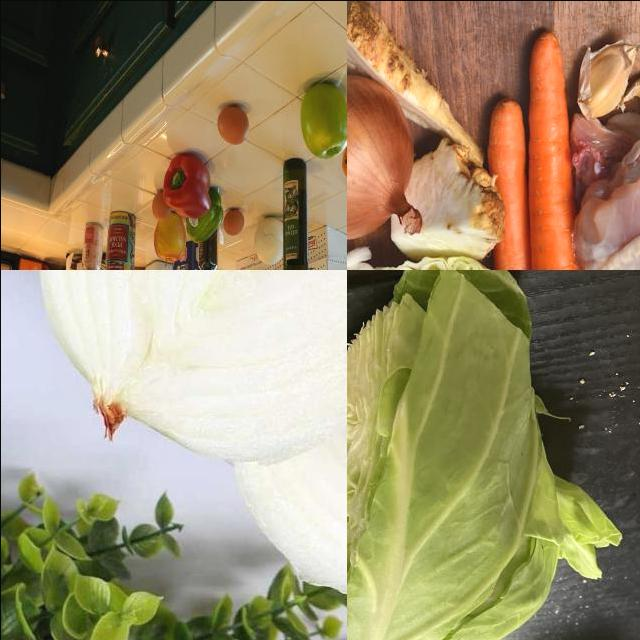bell_pepper: (165, 152, 212, 215), (188, 194, 220, 242), (198, 216, 221, 270)
cabbage: (347, 270, 622, 640)
carrot: (526, 22, 601, 270), (483, 96, 547, 270)
egg: (215, 99, 249, 159), (223, 207, 245, 236), (151, 194, 170, 222)
garlic: (575, 26, 640, 135), (623, 69, 640, 144)
onion: (37, 270, 347, 460), (221, 270, 347, 622), (347, 67, 420, 261), (253, 215, 290, 261)
